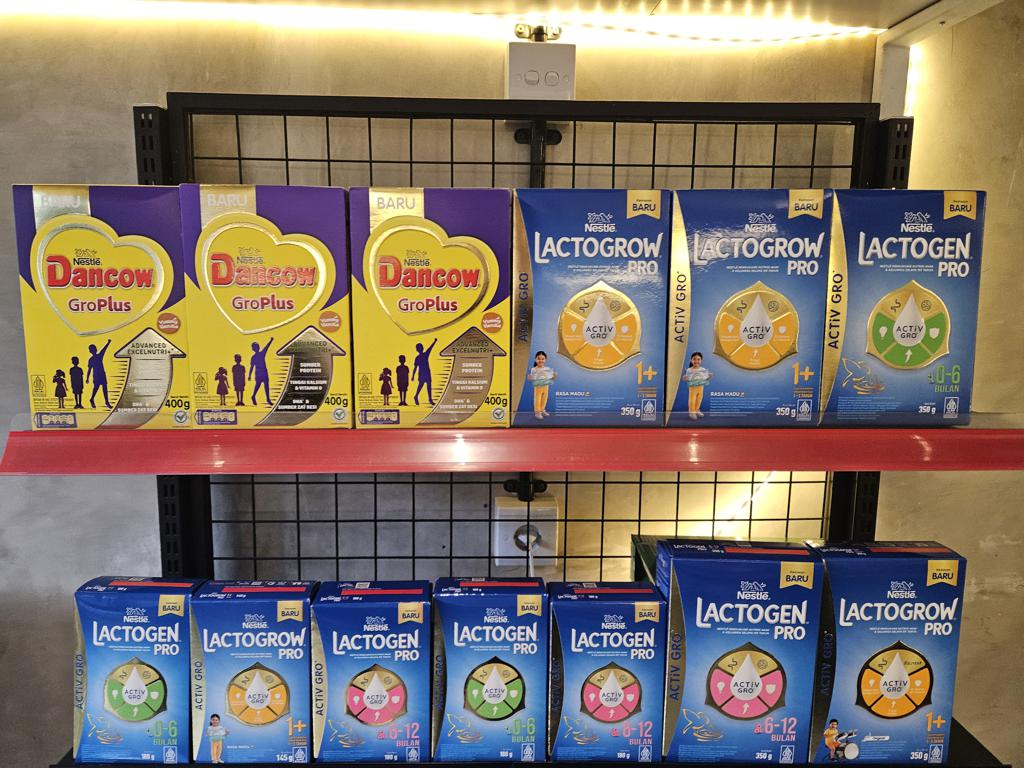LACTOGEN PRO 0-6 mo 40x180g ID: (66, 577, 192, 762)
LACTOGEN PRO 6-12 mo 40x180g ID: (429, 589, 552, 761), (309, 596, 431, 765), (547, 594, 664, 761)
